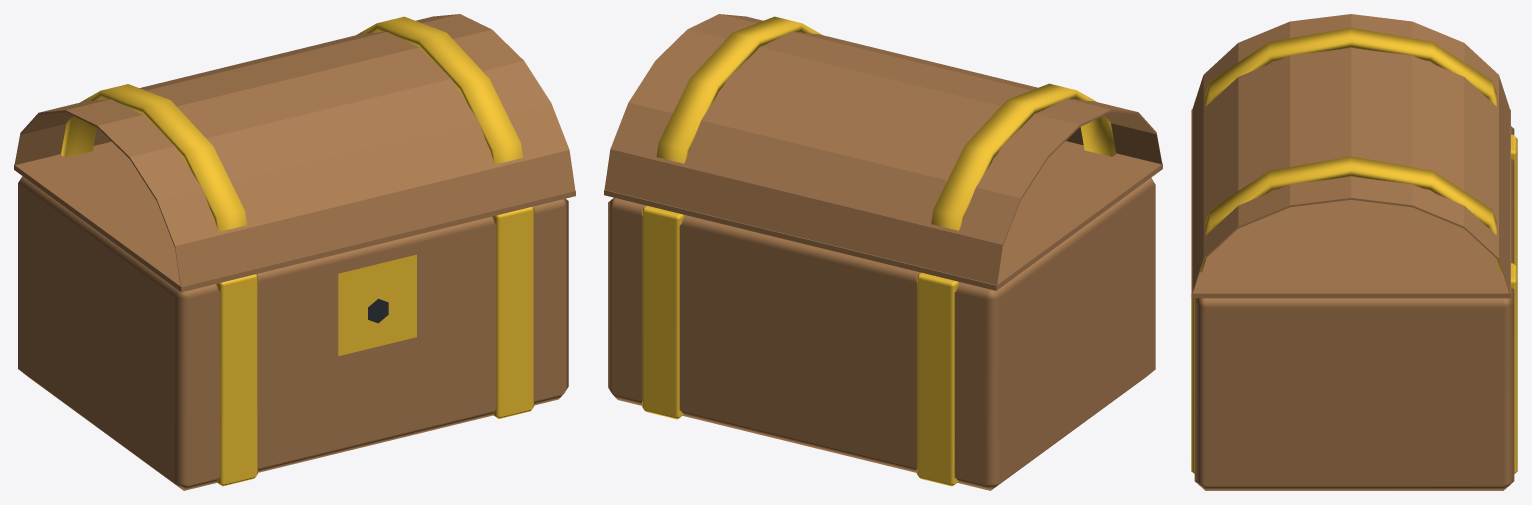
The model's file is CM_Tycoon_RewardChest.fbx.
3 views of the same model, side by side, from view 1: azimuth 30°, elevation 25°; view 2: azimuth 150°, elevation 25°; view 3: azimuth 270°, elevation 25° (orthographic). The views are drawn at different scales.
Visible parts, largest first — view 1: Body, Lid; view 2: Body, Lid; view 3: Lid, Body.
Part boxes in pixels (x1,y1,x2,y2): Body: [18, 176, 568, 490]; Lid: [14, 14, 575, 292]; Body: [608, 178, 1155, 490]; Lid: [604, 14, 1162, 290]; Lid: [1191, 14, 1510, 298]; Body: [1191, 126, 1517, 490].
Bounding box in the file's own units: 4 × 3 × 3.1.
Materials: 1 (1 with a texture image).
